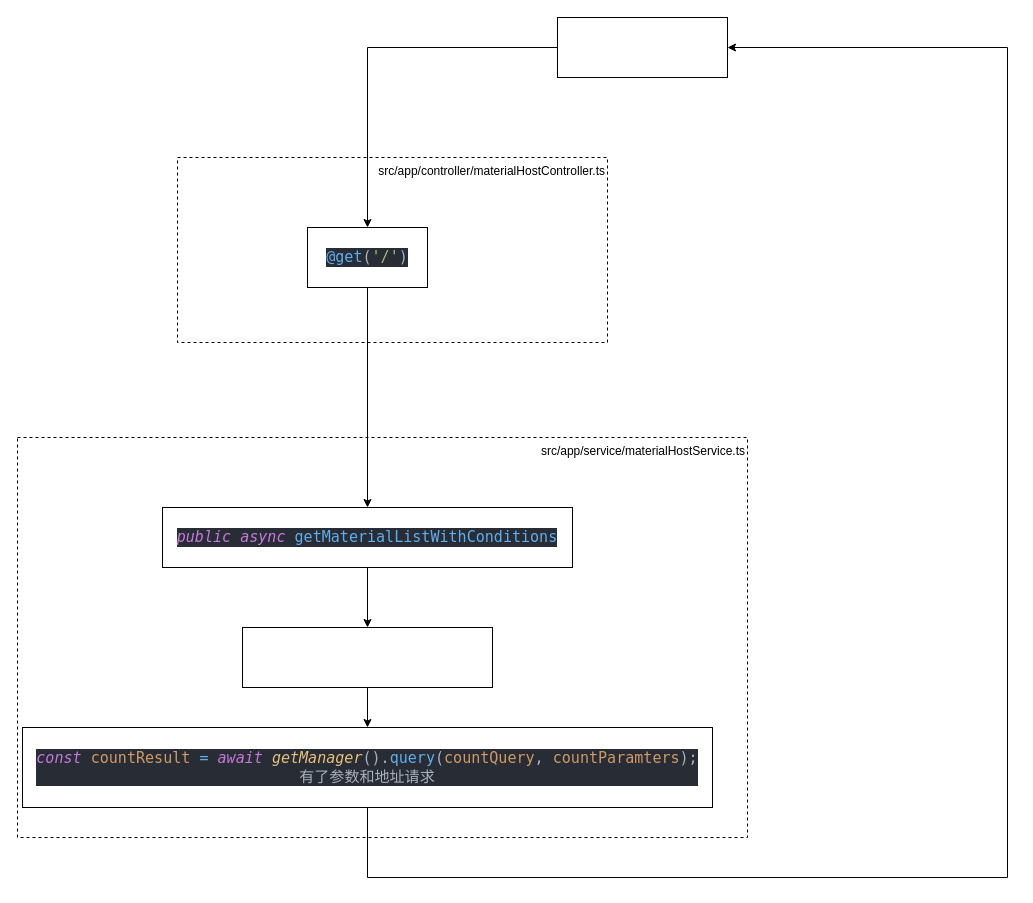
Some shapes in this 1033 by 903 pixel diagram are drawn without their labels. Each missing label, with the centre of its shape:
src/app.ts typeorm连接数据库: (642,47)
this . getMaterialIdArray: (367,657)
